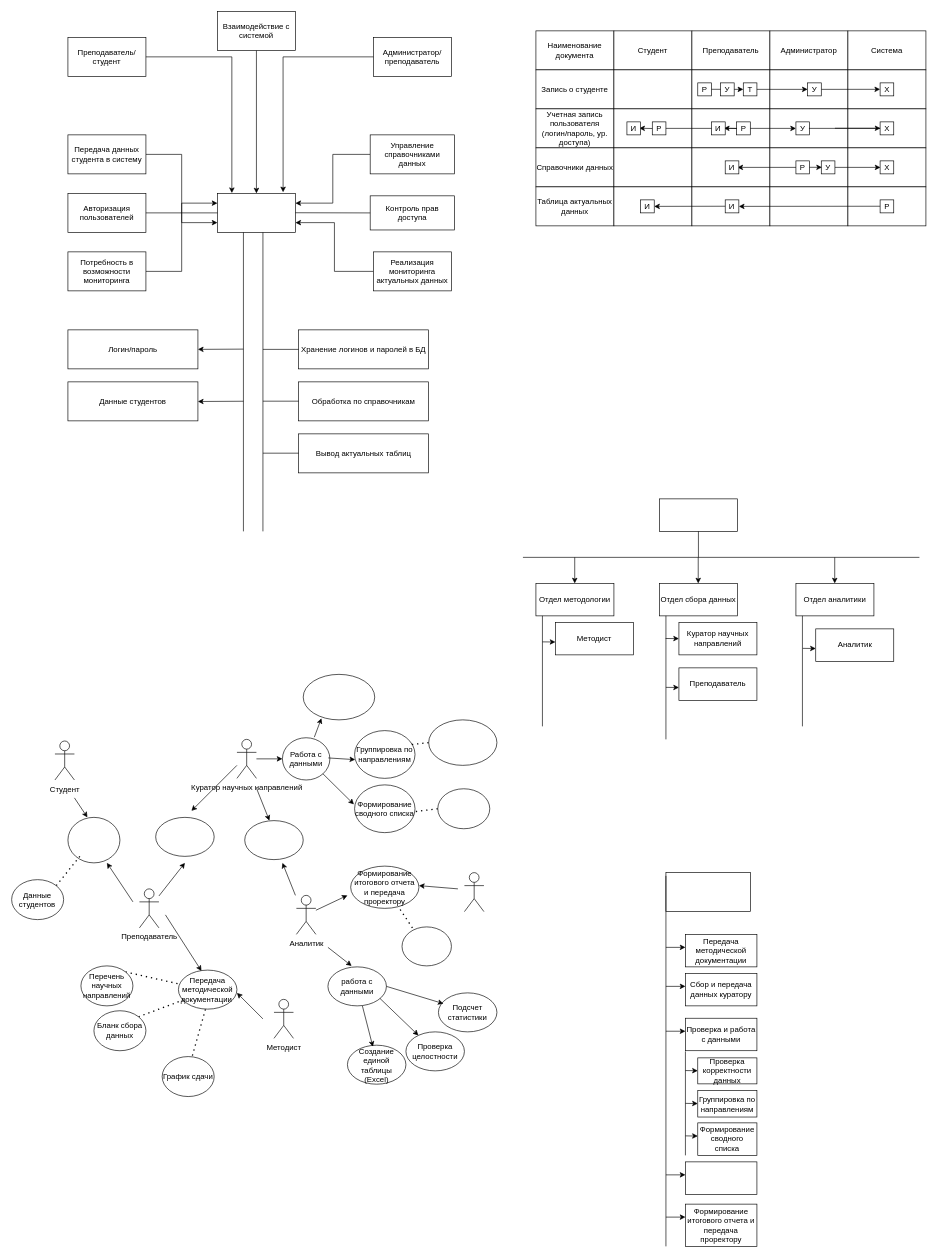
Image size: 937x1258. Some labels were removed from this diagram. Here are the shapes that lost their labels. From the top down, the box of each, then its label:
(217, 193, 295, 232): Работы системы
(659, 498, 737, 531): Проректор по научной работе
(303, 674, 375, 720): Проверка на корректность
(428, 719, 497, 765): группированные по направлениям списки
(437, 788, 490, 829): Сводный список
(67, 817, 120, 863): Сбор информации
(155, 817, 214, 856): Передача информации куратору своей группы
(244, 820, 303, 860): Передача данных аналитику
(464, 872, 484, 912): Проректор
(665, 872, 750, 912): Работа УЗ
(401, 926, 451, 966): Итоговый отчет
(685, 1161, 757, 1194): Формирование единой таблицы и статистики
